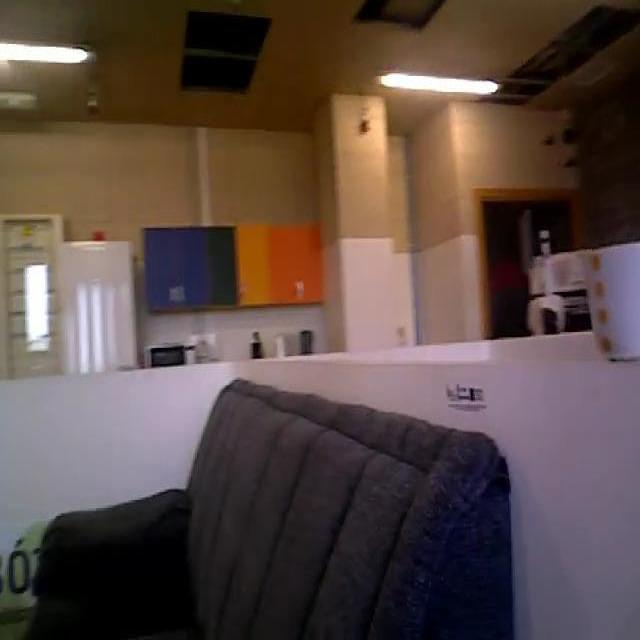cup: (583, 220, 640, 398)
